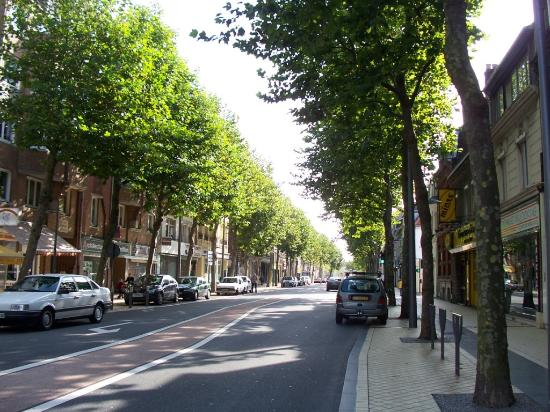tree: (4, 3, 122, 326)
